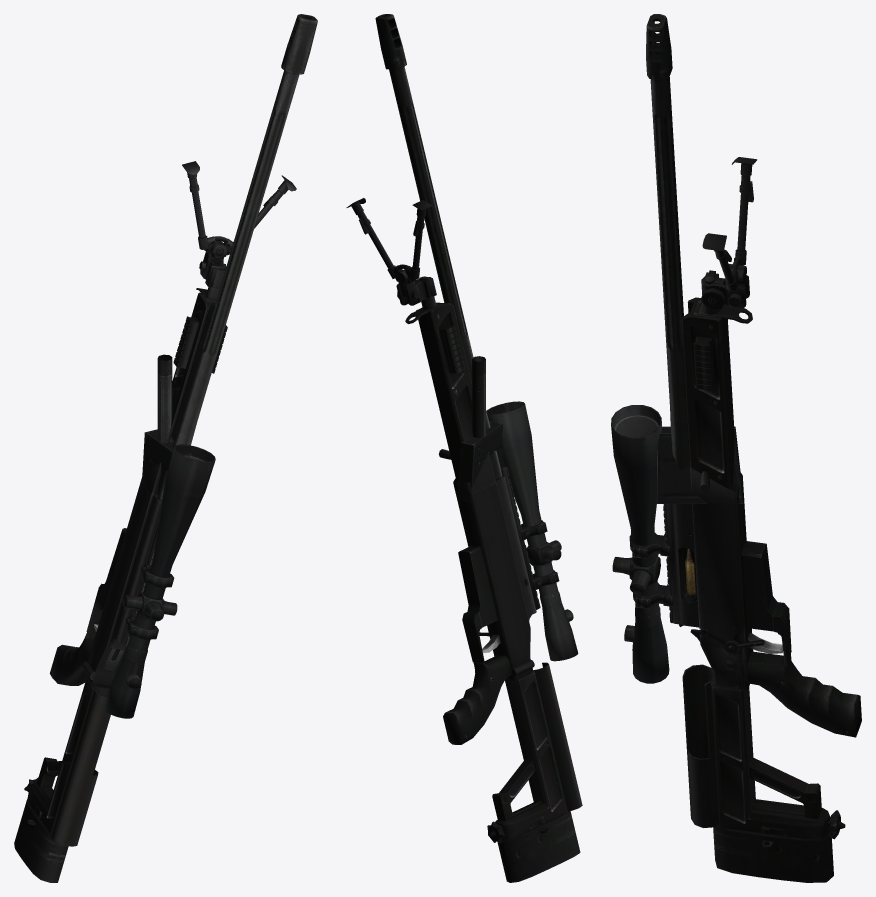
Rendered from RangeMaster762.obj.
3 views of the same model, side by side, from view 1: azimuth 30°, elevation 25°; view 2: azimuth 150°, elevation 25°; view 3: azimuth 270°, elevation 25° (orthographic). The views are drawn at different scales.
Visible parts, largest first — view 1: Model_RngMaster_762, Model_PSG1_Scope, Model_RngMaster_Bipod, Model_Handle, Model_Magazine; view 2: Model_RngMaster_762, Model_PSG1_Scope, Model_RngMaster_Bipod, Model_Magazine, Model_Handle; view 3: Model_RngMaster_762, Model_PSG1_Scope, Model_RngMaster_Bipod, Model_Magazine.
Boxes of the visible parts, <box> form: Model_RngMaster_762: <box>14,14,317,882</box>; Model_PSG1_Scope: <box>103,444,215,718</box>; Model_RngMaster_Bipod: <box>182,161,296,301</box>; Model_Handle: <box>157,354,172,487</box>; Model_Magazine: <box>142,429,191,493</box>; Model_RngMaster_762: <box>375,14,582,882</box>; Model_PSG1_Scope: <box>486,401,578,661</box>; Model_RngMaster_Bipod: <box>346,198,440,323</box>; Model_Magazine: <box>458,421,504,502</box>; Model_Handle: <box>439,356,485,459</box>; Model_RngMaster_762: <box>646,14,861,882</box>; Model_PSG1_Scope: <box>611,405,673,683</box>; Model_RngMaster_Bipod: <box>698,157,757,323</box>; Model_Magazine: <box>657,426,743,503</box>.
Bounding box in the file's own units: 0.3796 × 1.2 × 0.2777.
Materials: 3 (3 with a texture image).
